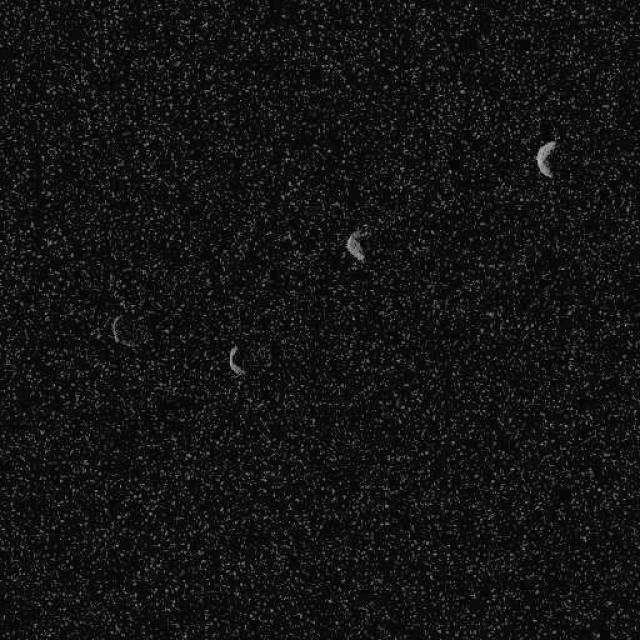D2: (109, 312, 138, 350), (534, 139, 558, 179), (344, 228, 366, 262), (226, 344, 246, 376)
